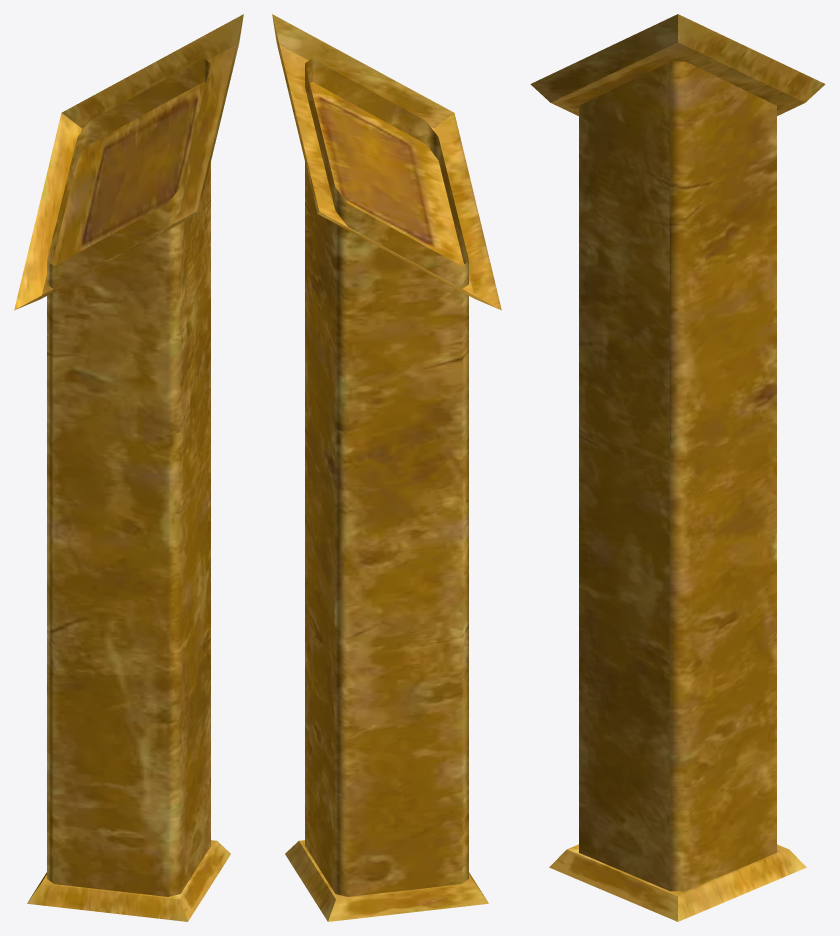
3 views of the same model, side by side, from view 1: azimuth 30°, elevation 25°; view 2: azimuth 150°, elevation 25°; view 3: azimuth 270°, elevation 25° (orthographic). The views are drawn at different scales.
Parts seen in each view (by area): view 1: SM_Dragonkin_Pipe_2m_02_v1_LOD0; view 2: SM_Dragonkin_Pipe_2m_02_v1_LOD0; view 3: SM_Dragonkin_Pipe_2m_02_v1_LOD0.
Boxes of the visible parts, x1,y1,x2,y2 form: SM_Dragonkin_Pipe_2m_02_v1_LOD0: (14, 14, 243, 921); SM_Dragonkin_Pipe_2m_02_v1_LOD0: (272, 14, 501, 921); SM_Dragonkin_Pipe_2m_02_v1_LOD0: (530, 14, 825, 921).
Size of the model in its own units: 0.671 by 2.34 by 0.6836.
1 material, 1 textured.
